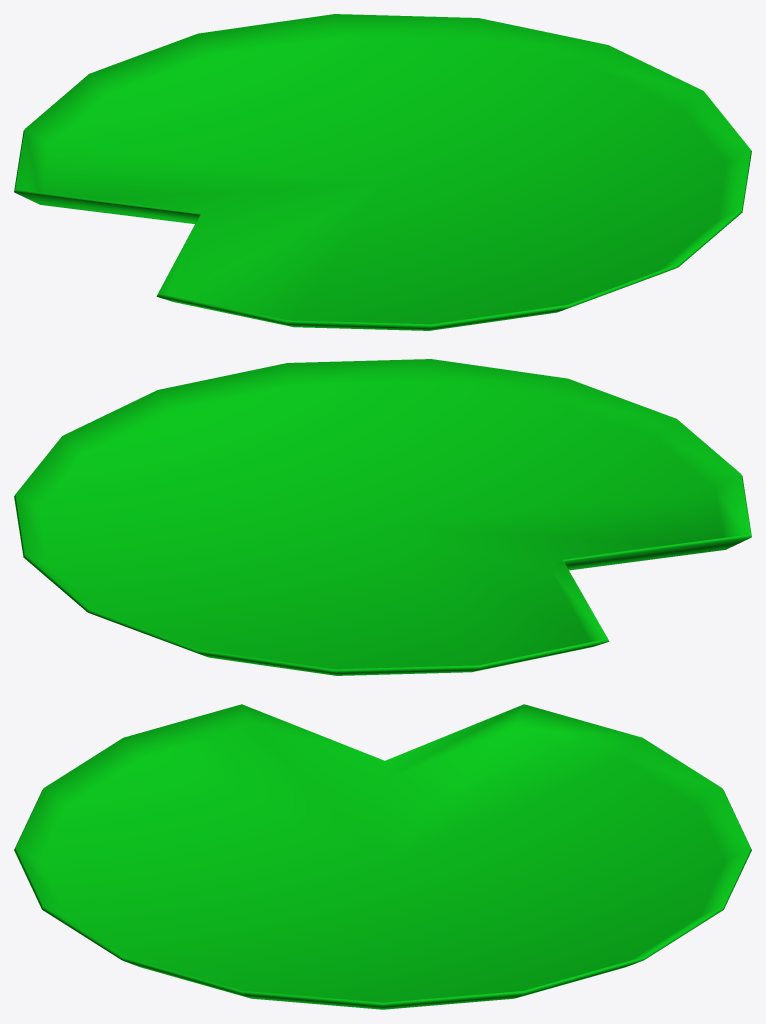
Rendered from Lilypad.glb.
The picture shows the model from 3 angles, top to bottom: view 1: azimuth 30°, elevation 25°; view 2: azimuth 150°, elevation 25°; view 3: azimuth 270°, elevation 25°; orthographic projection.
Visible parts, largest first — view 1: Lilypad; view 2: Lilypad; view 3: Lilypad.
Boxes of the visible parts, x1,y1,x2,y2 form: Lilypad: [14, 14, 751, 330]; Lilypad: [14, 359, 751, 675]; Lilypad: [14, 704, 751, 1009].
Size of the model in its own units: 2.07 by 0.0535 by 2.15.
